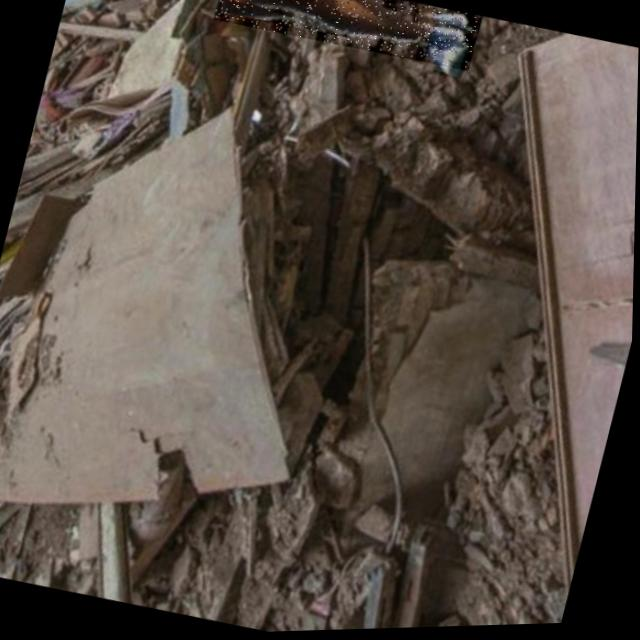Person in Rubble: (212, 0, 482, 79)
